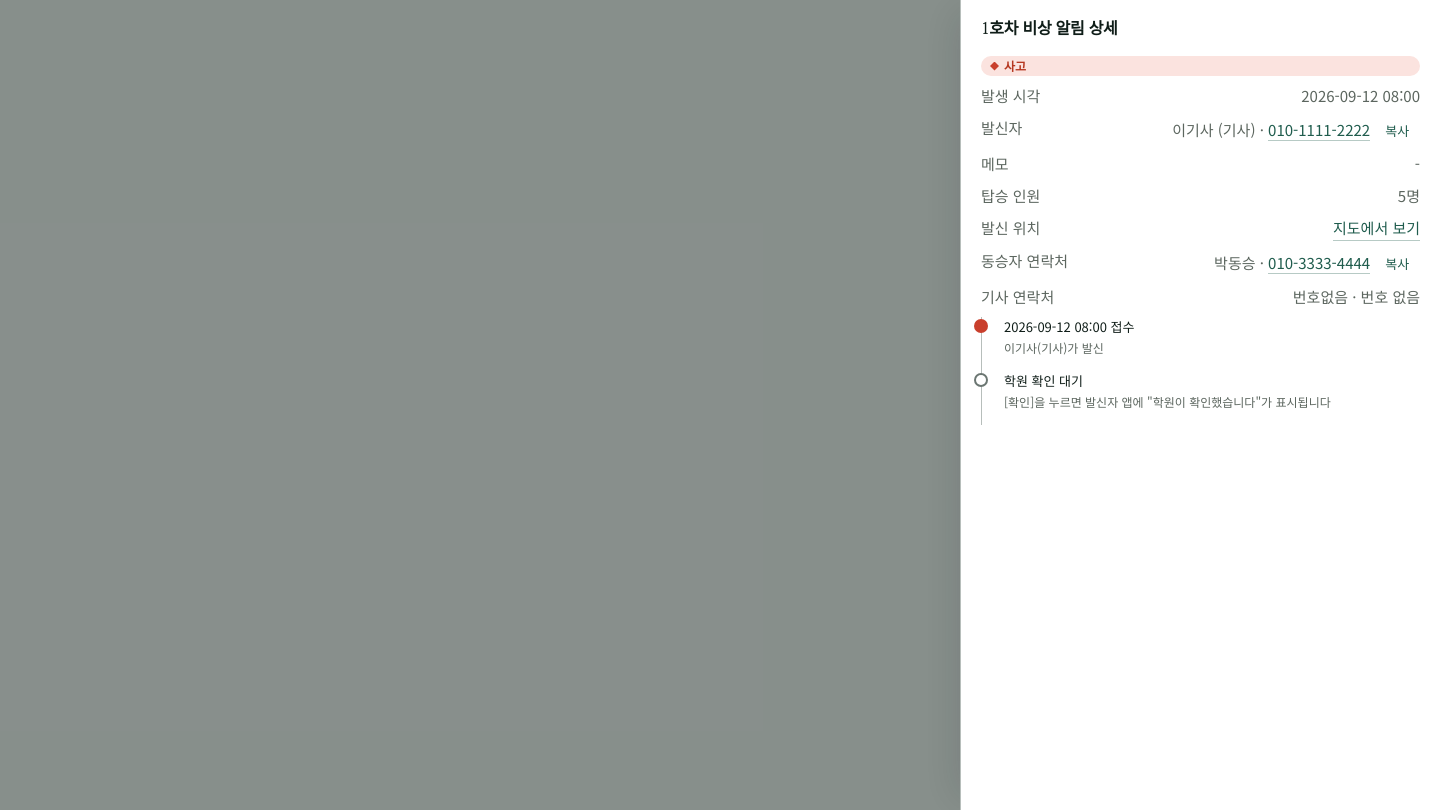
Test: EmergencyDetailDialog — 연락처 › 복사 버튼을 누르면 그 번호를 클립보드에 넣고 '복사됨' 으로 바뀐다
Click the button "복사" next to "010-1111-2222": [1397, 130] box [1374, 116, 1420, 144]
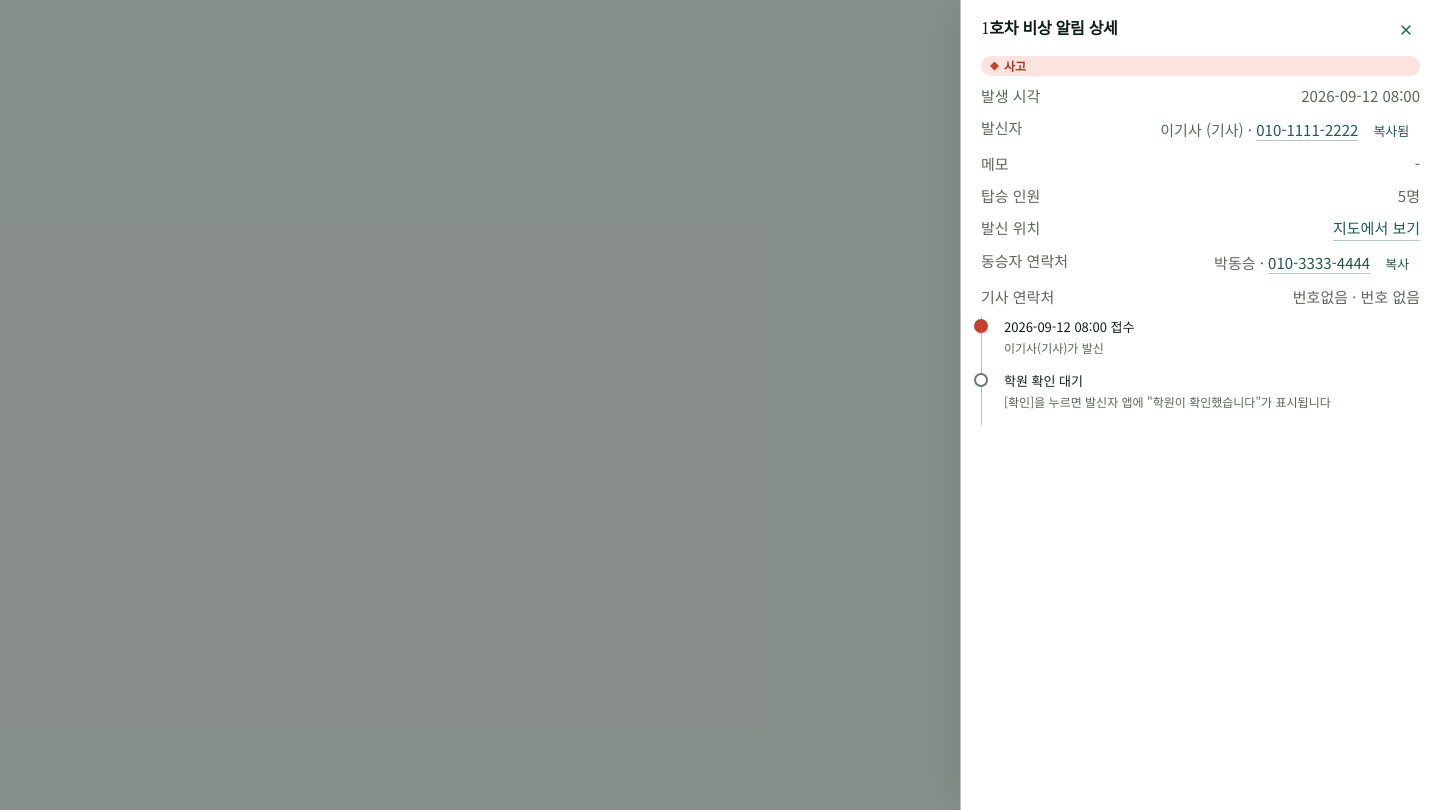
Expected: the button "복사됨" is shown, [1362, 116, 1420, 144]
